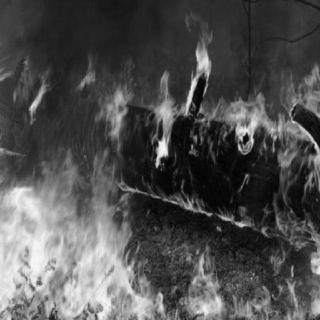Fire: (140, 176, 262, 236), (183, 10, 211, 124)
